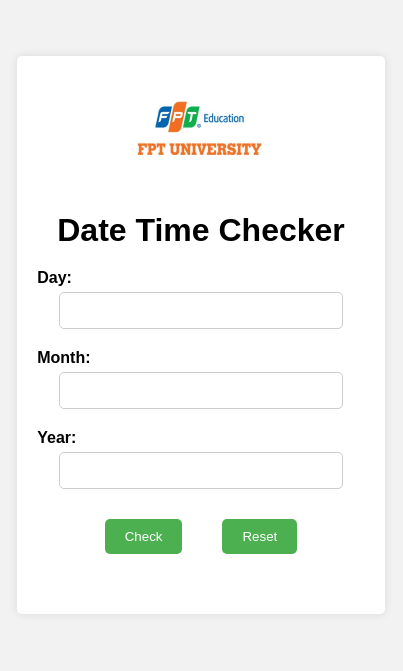
DateTimeChecker › Check The month text box is null
Type "4" into the field labelled "Day:".
click(201, 310); type("4")  # box [59, 292, 343, 329]
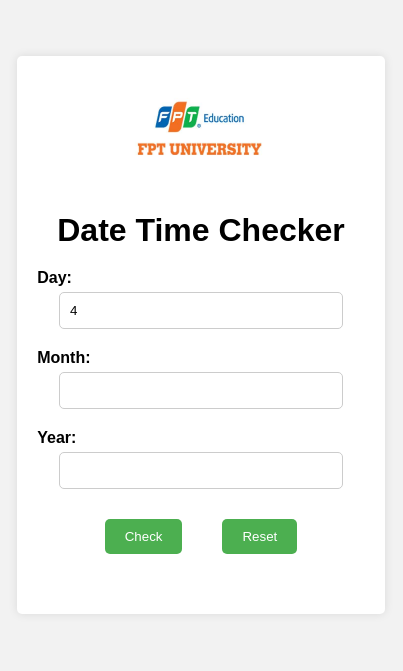
Type "2000" into the field labelled "Year:".
click(201, 470); type("2000")  # box [59, 452, 343, 489]
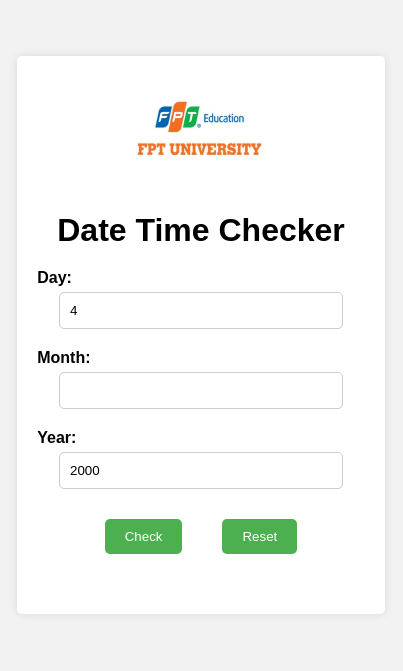
Click the button "Check".
click(144, 536)  # box [105, 519, 182, 554]
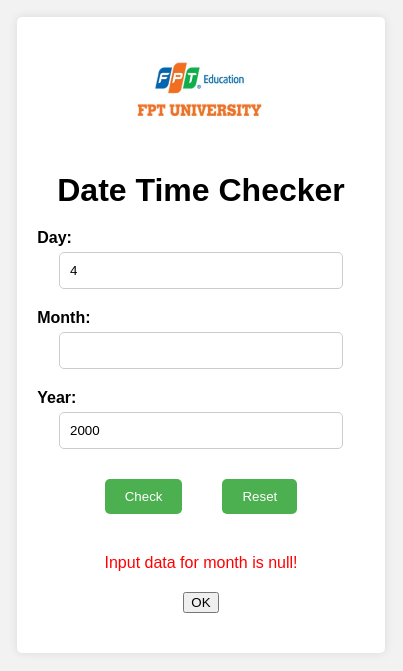
Now the text "Input data for month is null!" is shown, box [104, 554, 298, 571]
